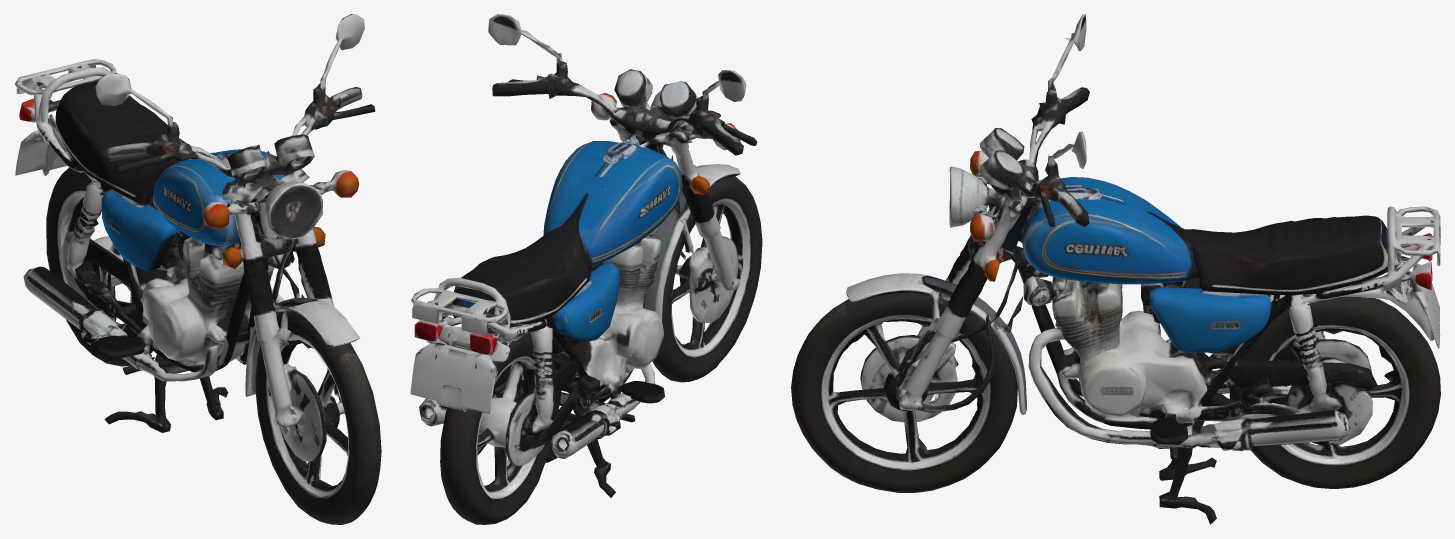
The model's file is moto_gn125.glb.
The picture shows the model from 3 angles, left to right: view 1: azimuth 30°, elevation 25°; view 2: azimuth 150°, elevation 25°; view 3: azimuth 270°, elevation 25°; orthographic projection. The views are drawn at different scales.
Parts seen in each view (by area): view 1: tripo_node_9cf820fd-ff3b-4b77-aa21-0483d6c4c843; view 2: tripo_node_9cf820fd-ff3b-4b77-aa21-0483d6c4c843; view 3: tripo_node_9cf820fd-ff3b-4b77-aa21-0483d6c4c843.
Part boxes in pixels (bbox=[...]): tripo_node_9cf820fd-ff3b-4b77-aa21-0483d6c4c843: bbox=[14, 14, 381, 524]; tripo_node_9cf820fd-ff3b-4b77-aa21-0483d6c4c843: bbox=[410, 14, 762, 524]; tripo_node_9cf820fd-ff3b-4b77-aa21-0483d6c4c843: bbox=[791, 14, 1440, 524].
Size of the model in its own units: 0.4879 by 0.7165 by 1.
Materials: 1 (1 with a texture image).
